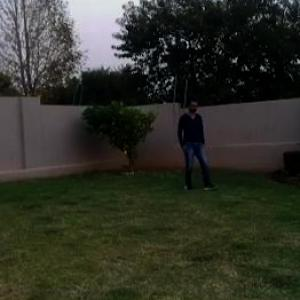follow: (178, 97, 209, 195)
